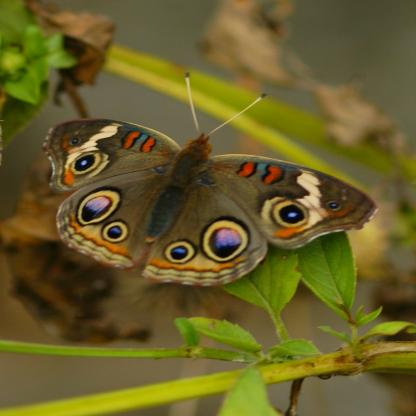Common Buckeye: (25, 64, 383, 312)
